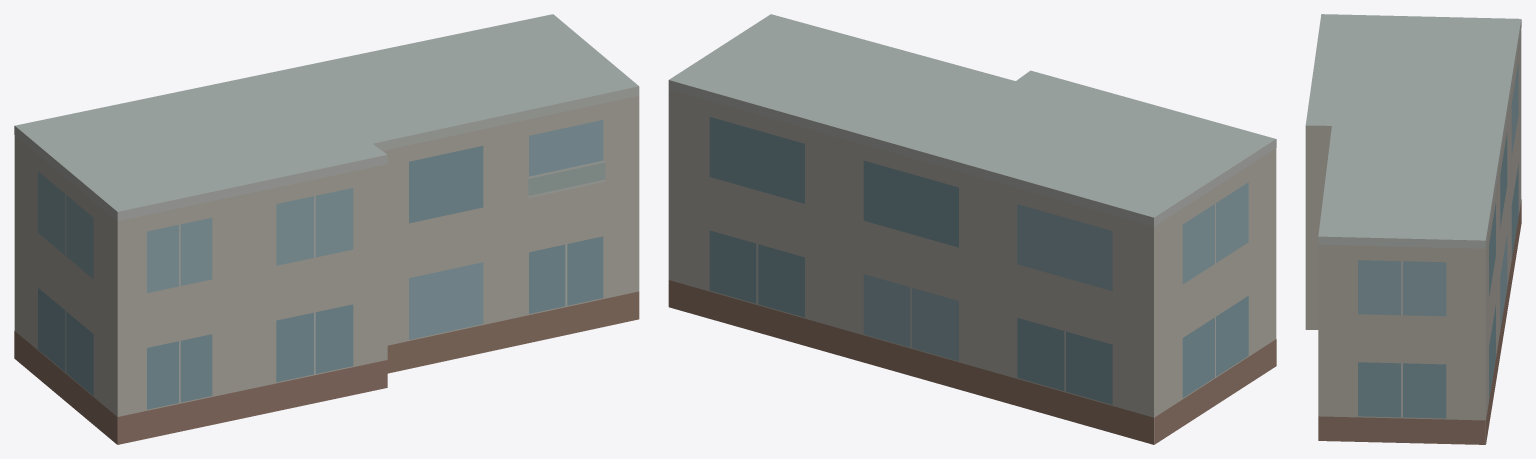
The model's file is survey-upis-32791000.glb.
3 views of the same model, side by side, from view 1: azimuth 30°, elevation 25°; view 2: azimuth 150°, elevation 25°; view 3: azimuth 270°, elevation 25° (orthographic). The views are drawn at different scales.
Visible parts, largest first — view 1: survey-upis-32791000.tmp; view 2: survey-upis-32791000.tmp; view 3: survey-upis-32791000.tmp.
Boxes of the visible parts, <box> form: survey-upis-32791000.tmp: <box>14,14,639,444</box>; survey-upis-32791000.tmp: <box>668,14,1276,444</box>; survey-upis-32791000.tmp: <box>1305,14,1521,444</box>.
Bounding box in the file's own units: 14.52 × 6.1 × 5.85.
